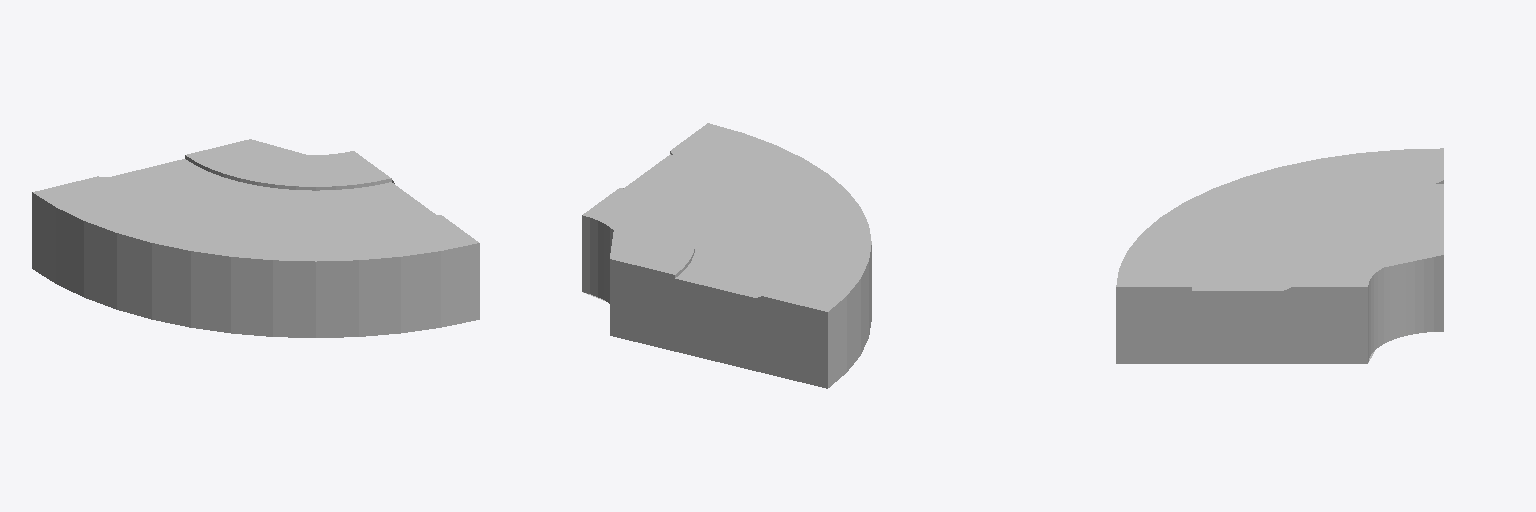
File: roadTile_299.obj
3 views of the same model, side by side, from view 1: azimuth 30°, elevation 25°; view 2: azimuth 150°, elevation 25°; view 3: azimuth 270°, elevation 25° (orthographic).
Parts seen in each view (by area): view 1: Mesh1 Group1 Model; view 2: Mesh1 Group1 Model; view 3: Mesh1 Group1 Model.
Boxes of the visible parts, x1=… form: Mesh1 Group1 Model: x1=32, y1=139, x2=479, y2=337; Mesh1 Group1 Model: x1=582, y1=123, x2=871, y2=388; Mesh1 Group1 Model: x1=1116, y1=148, x2=1443, y2=363.
Size of the model in its own units: 2.44 by 0.63 by 2.44.